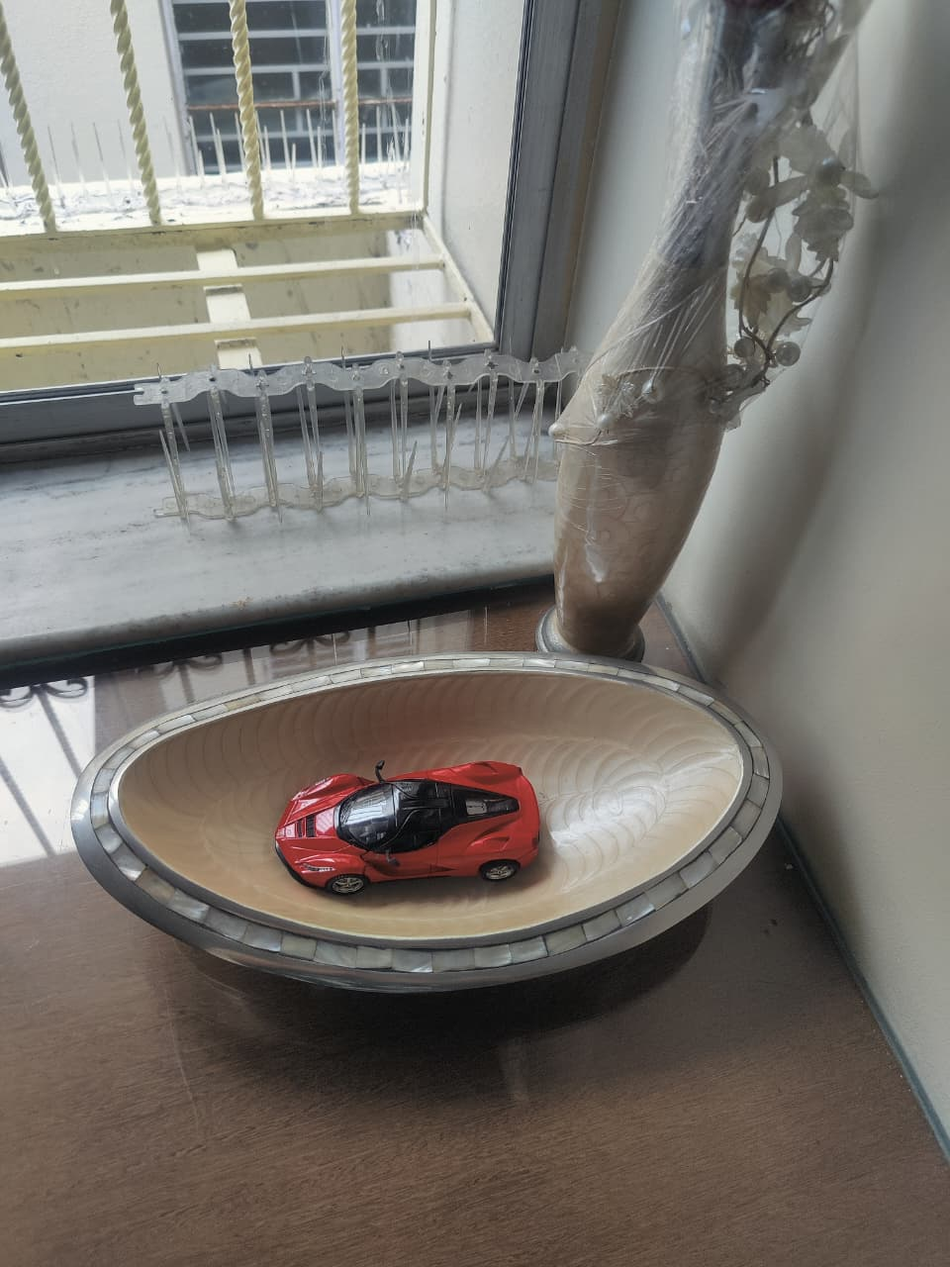car: (274, 759, 540, 898)
